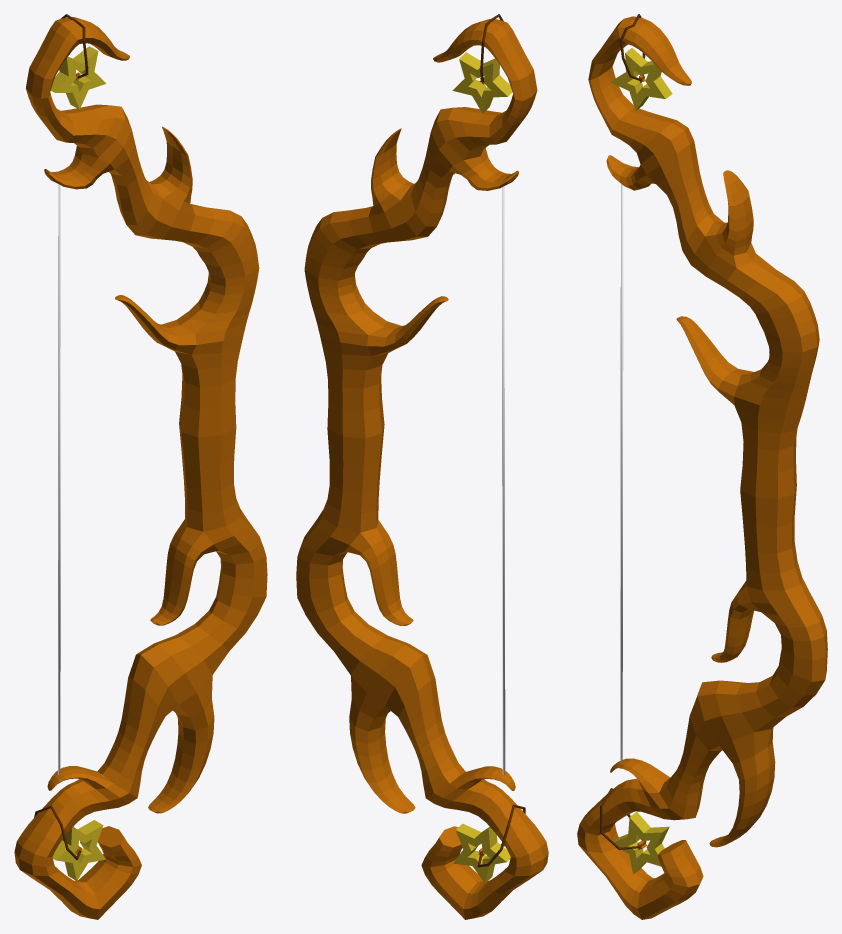
Rendered from BowMagic.fbx.
3 renders of one model, left to right at view 1: azimuth 30°, elevation 25°; view 2: azimuth 150°, elevation 25°; view 3: azimuth 330°, elevation 25°, orthographic.
Parts seen in each view (by area): view 1: Bow; view 2: Bow; view 3: Bow.
Part boxes in pixels (x1,y1,x2,y2): Bow: (14, 14, 267, 919); Bow: (296, 14, 548, 919); Bow: (577, 14, 827, 919).
Size of the model in its own units: 124 by 435 by 27.55.
